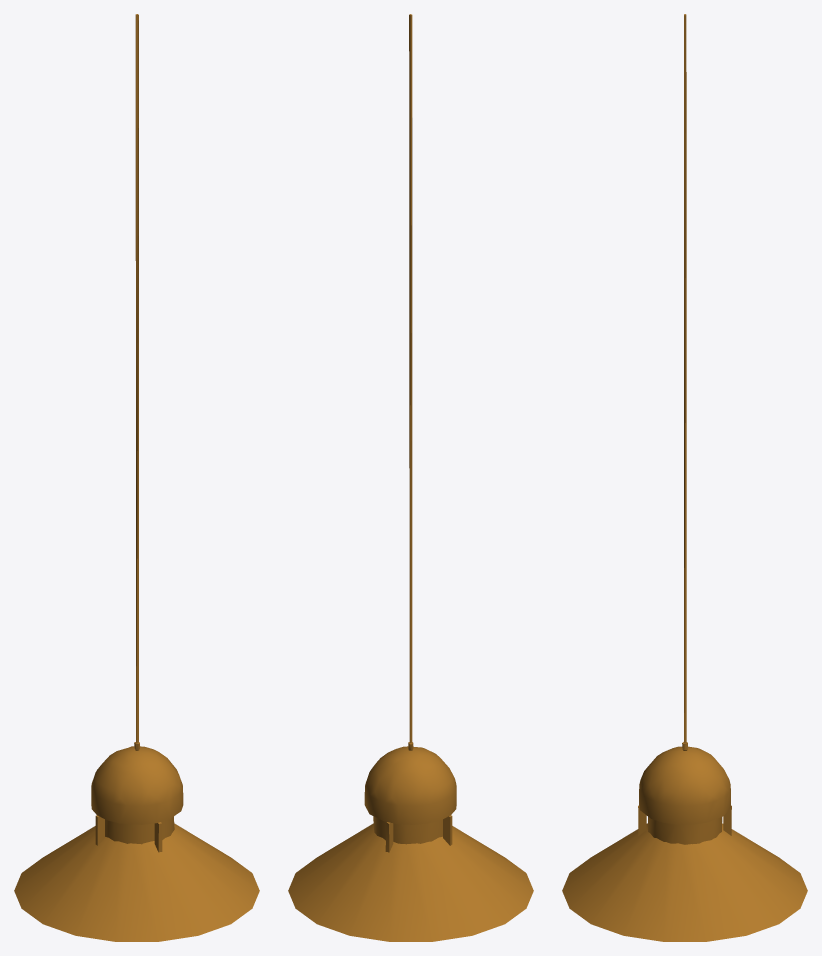
File: Lamp 1.FBX
3 views of the same model, side by side, from view 1: azimuth 30°, elevation 25°; view 2: azimuth 150°, elevation 25°; view 3: azimuth 270°, elevation 25° (orthographic).
Visible parts, largest first — view 1: Lamp 1; view 2: Lamp 1; view 3: Lamp 1.
Boxes of the visible parts, left/top/right/bottom form: Lamp 1: left=14, top=14, right=259, bottom=941; Lamp 1: left=288, top=14, right=533, bottom=941; Lamp 1: left=562, top=14, right=807, bottom=941.
Size of the model in its own units: 38.75 by 158 by 39.34.
